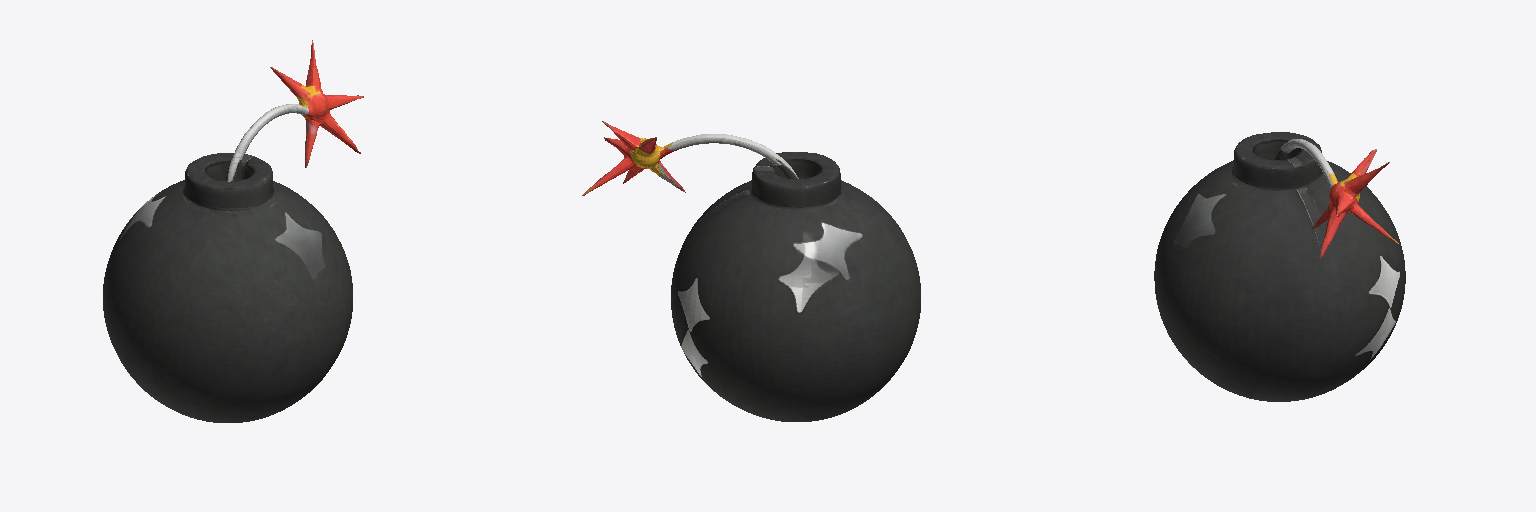
3 renders of one model, left to right at view 1: azimuth 30°, elevation 25°; view 2: azimuth 150°, elevation 25°; view 3: azimuth 270°, elevation 25°, orthographic.
Visible parts, largest first — view 1: bomb; view 2: bomb; view 3: bomb.
Boxes of the visible parts, x1=… form: bomb: x1=103, y1=40, x2=363, y2=422; bomb: x1=582, y1=121, x2=920, y2=421; bomb: x1=1154, y1=132, x2=1405, y2=401.
Size of the model in its own units: 1.93 by 2 by 1.54.
1 materials, 1 textured.